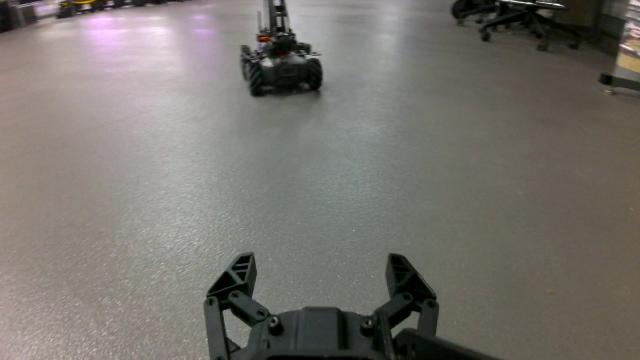robot: (239, 0, 324, 96)
